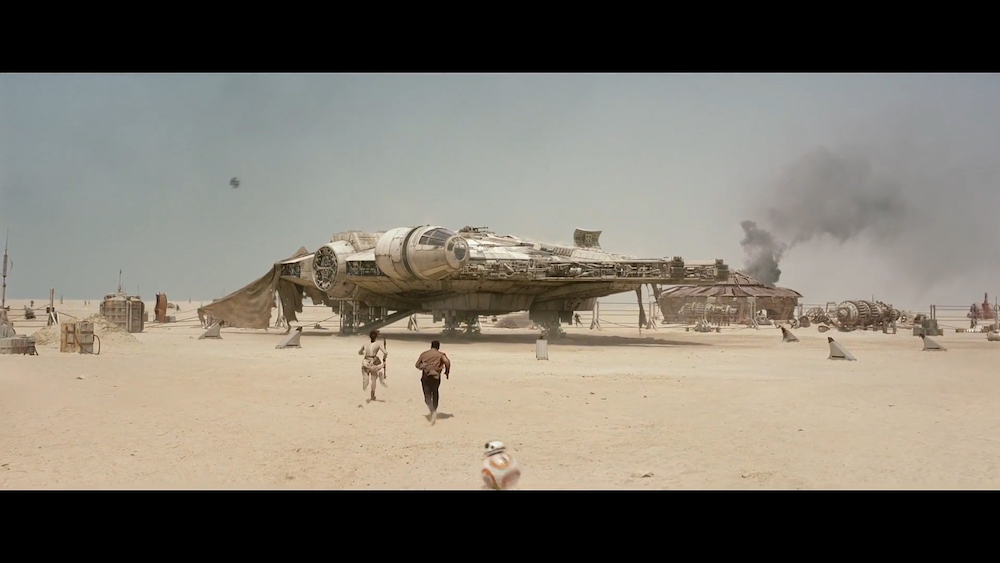Millennium Falcon: (273, 227, 731, 313)
Tie Fighter: (230, 178, 241, 189)
